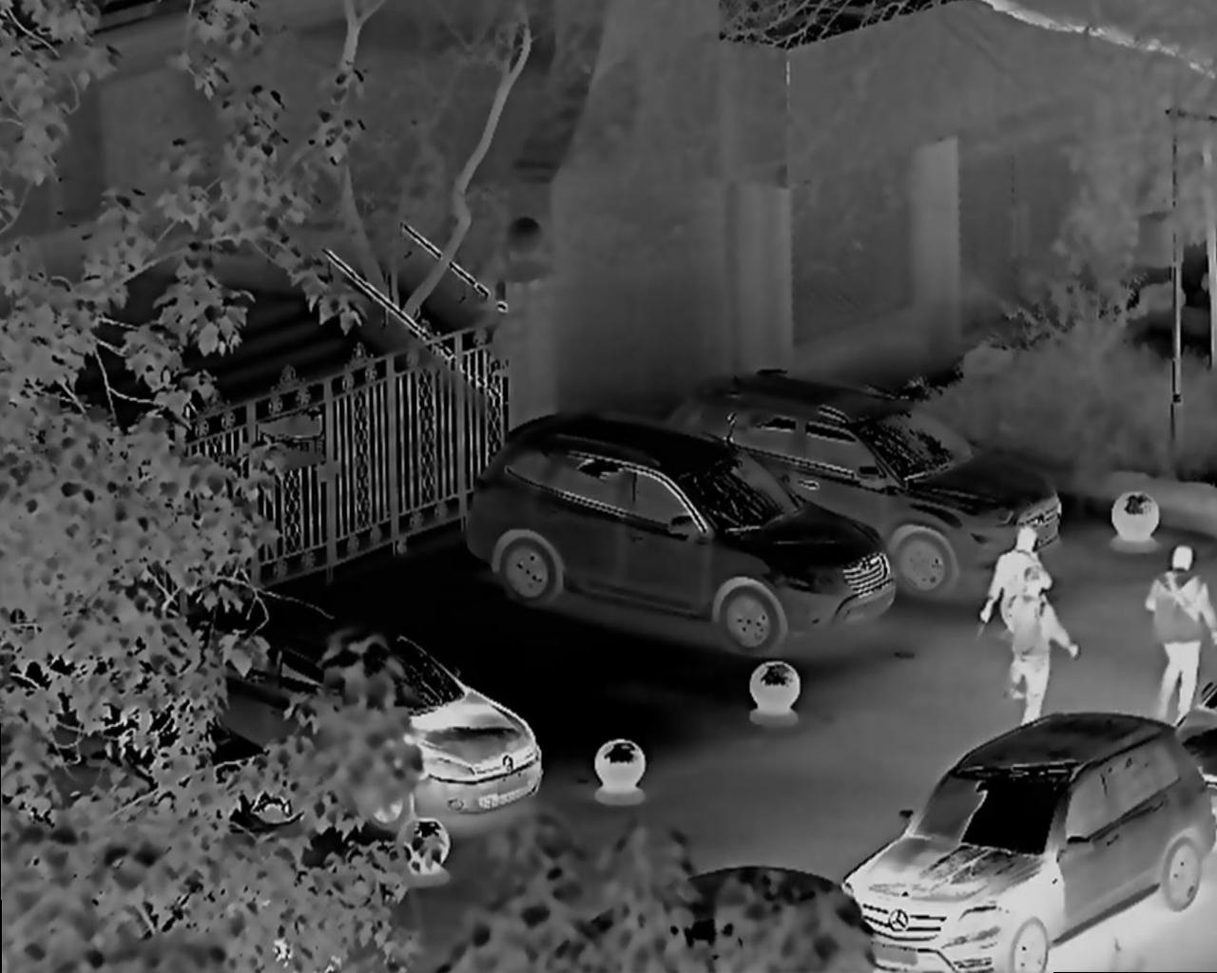person: (1142, 543, 1217, 731), (1006, 565, 1083, 734), (983, 525, 1056, 703)
